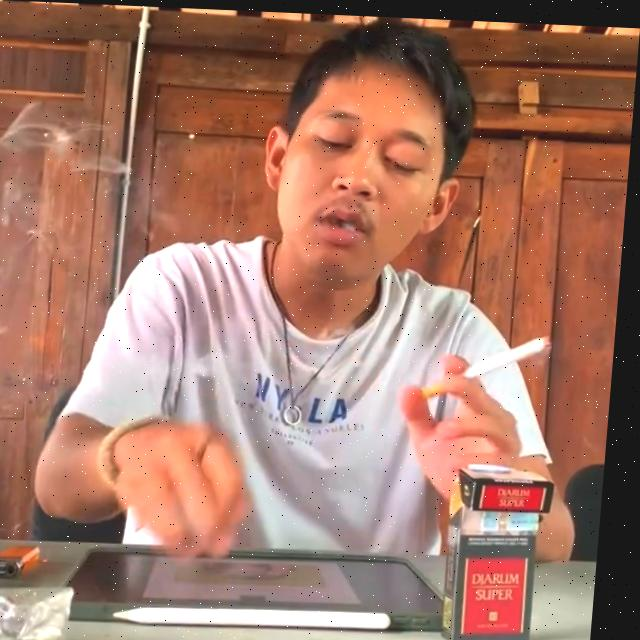cigarette: (428, 326, 558, 398)
